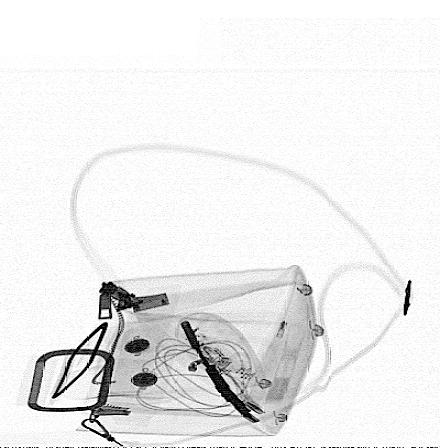Gun: (175, 318, 259, 425)
